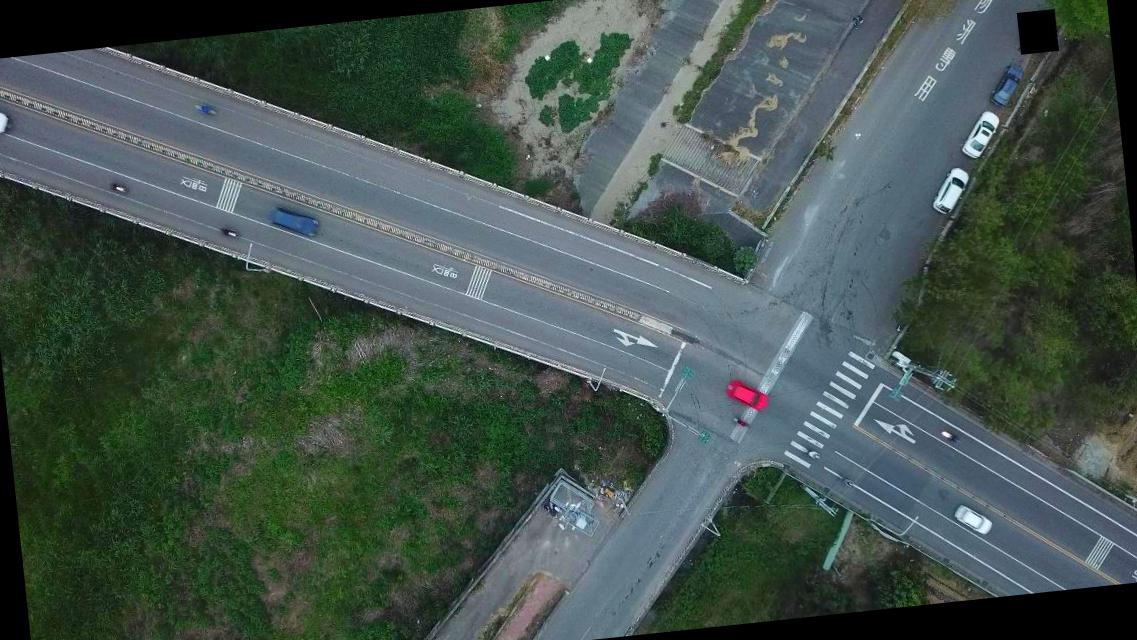vehicle: (956, 110, 1003, 159), (928, 166, 972, 214), (270, 202, 320, 240), (988, 64, 1029, 110), (724, 379, 770, 416), (954, 502, 992, 536), (0, 101, 11, 137)
